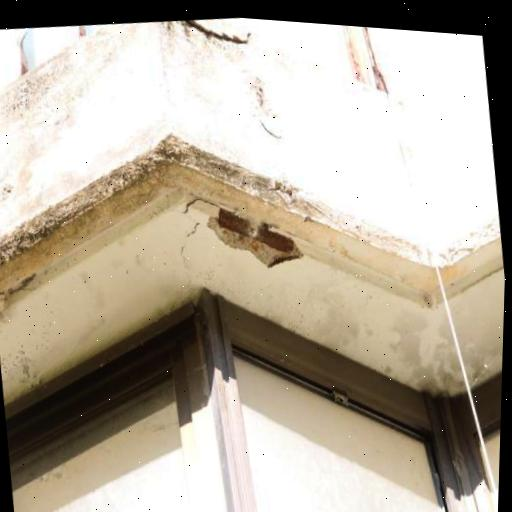exposed_rebar: (217, 207, 296, 254)
spalling: (208, 208, 303, 267)
